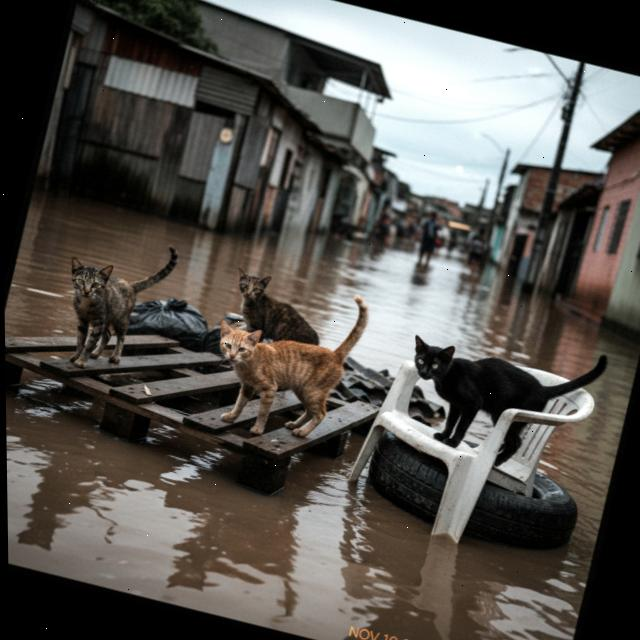cat: (383, 300, 620, 488), (190, 260, 378, 460), (35, 212, 192, 396), (217, 260, 340, 354)
civilian: (408, 206, 453, 271), (460, 223, 493, 279)
